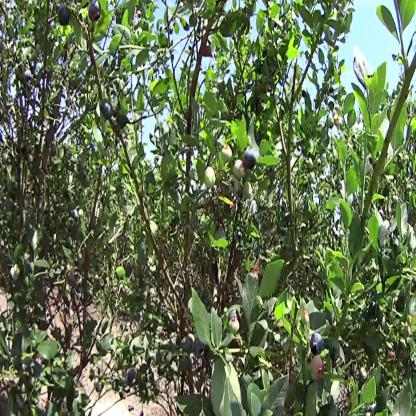intermediate: (309, 355, 325, 382), (221, 142, 235, 167), (228, 315, 242, 340), (234, 158, 246, 181)
mature: (181, 334, 209, 360), (241, 147, 262, 171), (308, 332, 327, 357), (57, 5, 73, 30), (86, 4, 104, 25), (100, 98, 115, 121)
young: (241, 179, 255, 204), (205, 167, 218, 192), (307, 154, 316, 174)
